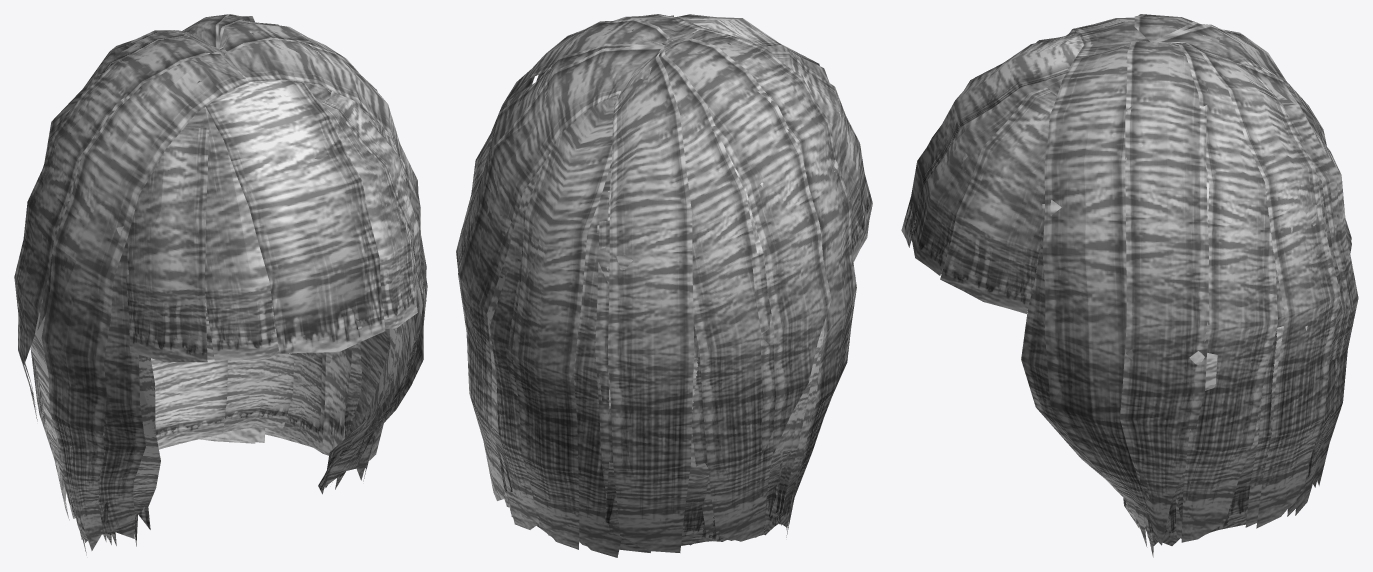
Rendered from daz_hair_asym_short.glb.
3 views of the same model, side by side, from view 1: azimuth 30°, elevation 25°; view 2: azimuth 150°, elevation 25°; view 3: azimuth 270°, elevation 25° (orthographic). The views are drawn at different scales.
Parts seen in each view (by area): view 1: daz_hair_asym_short; view 2: daz_hair_asym_short; view 3: daz_hair_asym_short.
Boxes of the visible parts, bbox=[...] form: daz_hair_asym_short: bbox=[14, 14, 427, 555]; daz_hair_asym_short: bbox=[456, 14, 872, 557]; daz_hair_asym_short: bbox=[901, 14, 1358, 557].
Bounding box in the file's own units: 0.2056 × 0.2633 × 0.2349.
1 material, 1 textured.
